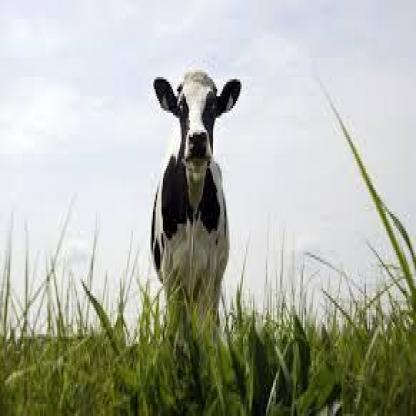cow: (152, 74, 242, 344)
